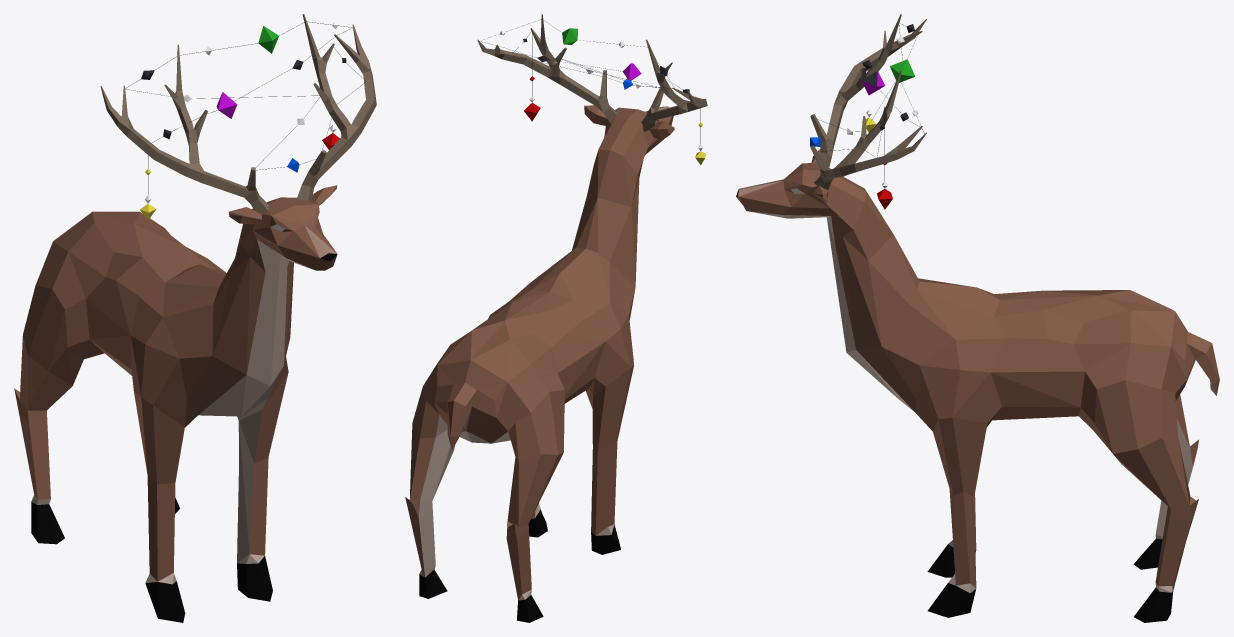
The model's file is deer.fbx.
The picture shows the model from 3 angles, left to right: view 1: azimuth 30°, elevation 25°; view 2: azimuth 150°, elevation 25°; view 3: azimuth 270°, elevation 25°; orthographic projection. The views are drawn at different scales.
Visible parts, largest first — view 1: 平面.001; view 2: 平面.001; view 3: 平面.001.
Part boxes in pixels (left/top/right/bottom): 平面.001: left=14, top=14, right=376, bottom=622; 平面.001: left=405, top=14, right=707, bottom=622; 平面.001: left=736, top=14, right=1219, bottom=622.
Size of the model in its own units: 1176 by 2629 by 2098.
